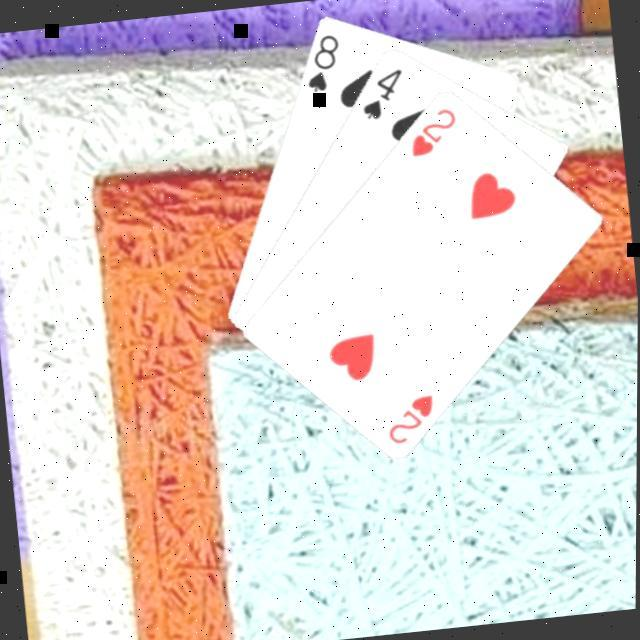2H: (382, 390, 442, 448), (404, 104, 463, 160)
4S: (355, 64, 410, 124)
8S: (298, 29, 348, 97)
